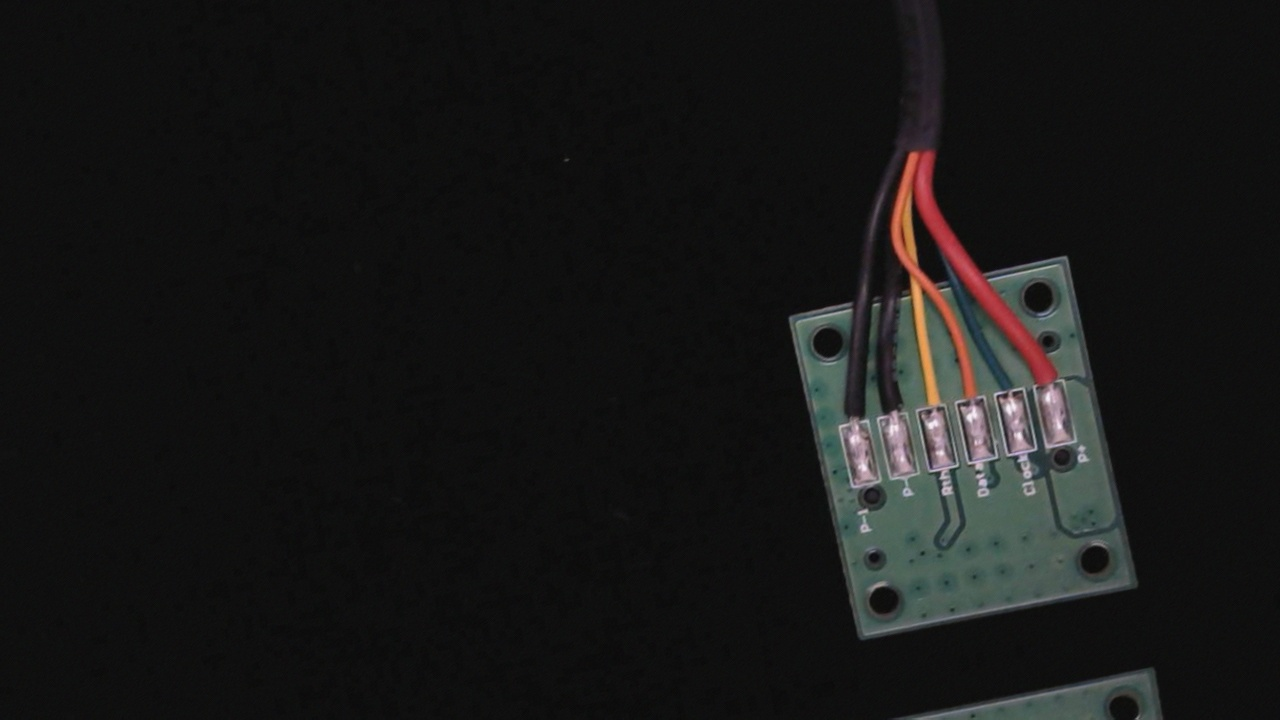Black: (870, 365, 911, 433)
Black1: (827, 368, 872, 440)
Green: (983, 348, 1027, 411)
Orange: (947, 354, 989, 417)
Red: (1025, 332, 1067, 399)
Yellow: (905, 358, 951, 428)
